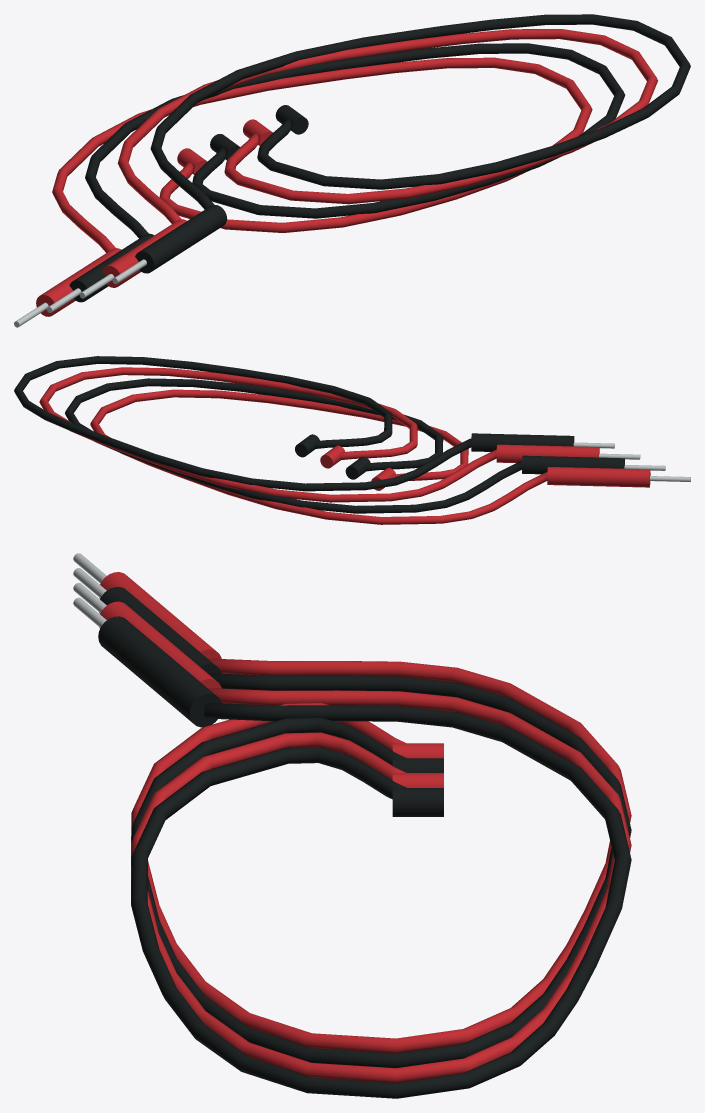
3 views of the same model, one above another, from view 1: azimuth 30°, elevation 25°; view 2: azimuth 150°, elevation 25°; view 3: azimuth 270°, elevation 25° (orthographic). The views are drawn at different scales.
Visible parts, largest first — view 1: Loose unconnected test lead.001, Loose unconnected test lead, Probe metal point; view 2: Loose unconnected test lead.001, Loose unconnected test lead, Probe metal point; view 3: Loose unconnected test lead.001, Loose unconnected test lead, Probe metal point.
Part boxes in pixels (x1,y1,x2,y2): Loose unconnected test lead.001: [69, 14, 690, 302]; Loose unconnected test lead: [36, 29, 657, 316]; Probe metal point: [14, 259, 146, 327]; Loose unconnected test lead.001: [14, 356, 624, 513]; Loose unconnected test lead: [39, 367, 650, 524]; Probe metal point: [573, 442, 690, 481]; Loose unconnected test lead.001: [98, 587, 631, 1098]; Loose unconnected test lead: [99, 572, 631, 1082]; Probe metal point: [73, 553, 106, 627].
Bounding box in the file's own units: 0.3709 × 0.023 × 0.1525.
